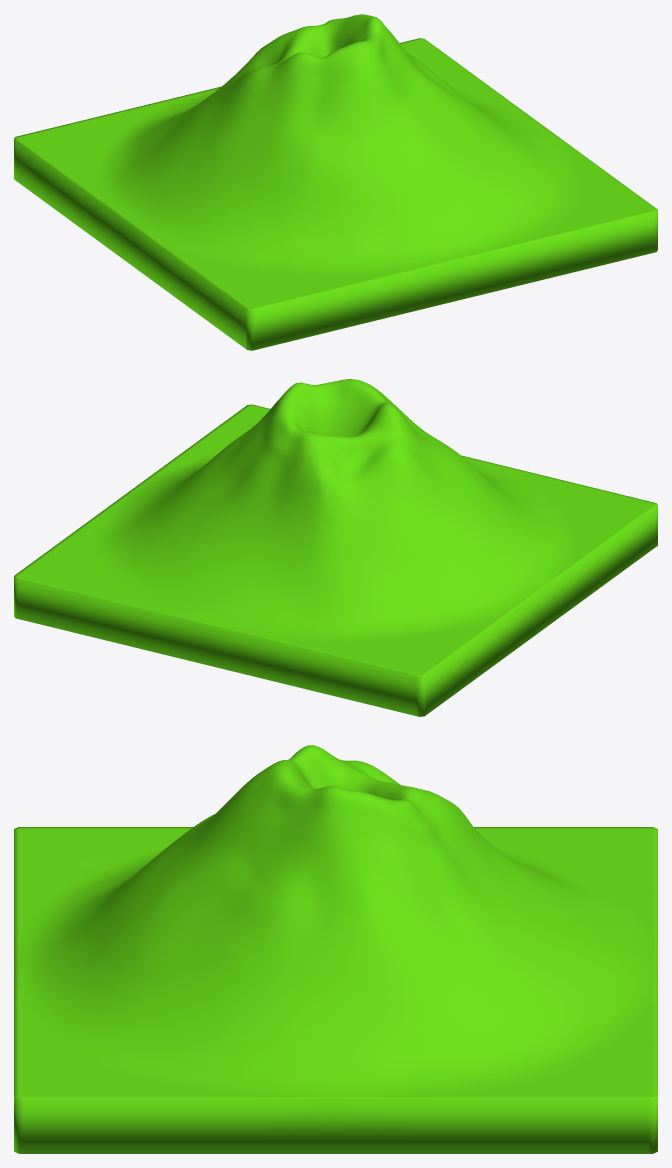
File: Vulcano.gltf
The picture shows the model from 3 angles, top to bottom: view 1: azimuth 30°, elevation 25°; view 2: azimuth 150°, elevation 25°; view 3: azimuth 270°, elevation 25°; orthographic projection. The views are drawn at different scales.
Parts seen in each view (by area): view 1: Landscape; view 2: Landscape; view 3: Landscape.
Part boxes in pixels (x1=…): Landscape: x1=14, y1=14, x2=657, y2=350; Landscape: x1=14, y1=379, x2=657, y2=716; Landscape: x1=14, y1=745, x2=657, y2=1153.
Size of the model in its own units: 2 by 0.8754 by 2.
